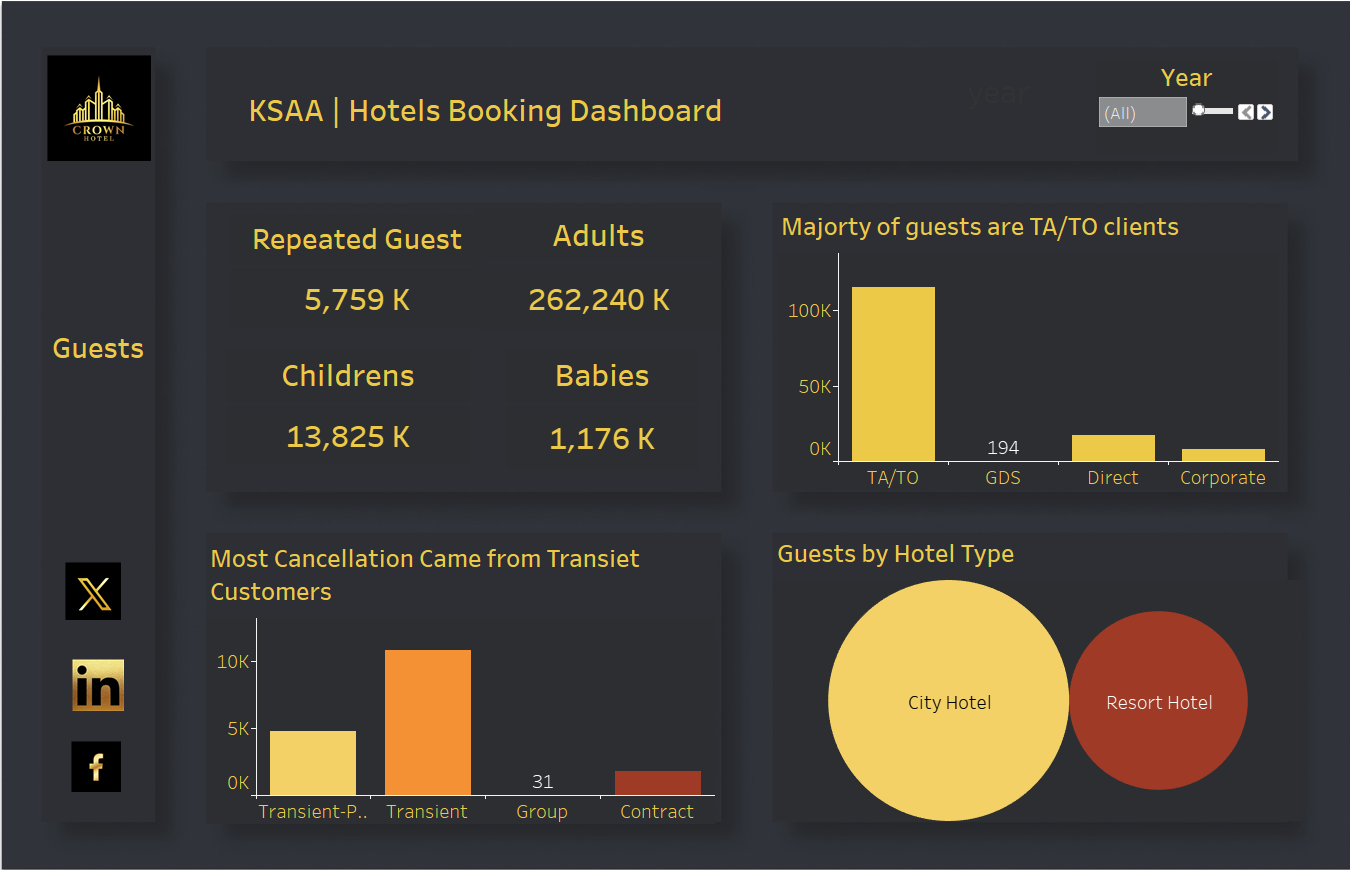

What the dashboard file says about the page in this screenshot:
{"tool":"powerbi","page":{"name":"Guests","canvas":[1280,720],"ordinal":2},"visuals":[{"type":"shape","box":[0,0,87.3,720.8],"z":0},{"type":"textbox","box":[103.8,17.7,396.2,49.2],"z":1000},{"type":"pageNavigator","box":[103.5,73.7,820.6,43.9],"z":2000},{"type":"barChart","title":"Guests by Customer Type","fields":{"Y":["# Measures.Guest in Hotel"],"Category":["DIM_Customer_Type.Customer_Type"]},"box":[875.7,329.3,390,180],"z":3000},{"type":"cardVisual","fields":{"Data":["# Measures.Repeated Guests","# Measures.#Adults","# Measures.#Children","# Measures.#Babies"]},"box":[102.9,132.9,185.7,572.9],"z":4000},{"type":"image","box":[5.7,10,75.7,65.7],"z":5000},{"type":"barChart","title":"Guests by Distribution Channel","fields":{"Category":["DIM_Distribution_Channel.Distribution_Channel"],"Y":["# Measures.Guest in Hotel"]},"box":[875.7,132.9,390,180],"z":6000},{"type":"barChart","title":"Guest by Deposit Type","fields":{"Y":["# Measures.Guest in Hotel"],"Category":["DIM_Deposit_Type.Deposit_Type"]},"box":[875.7,525.7,390,180],"z":7000},{"type":"pivotTable","fields":{"Rows":["DIM_Country.Country"],"Values":["# Measures.#Adults","# Measures.#Children","# Measures.#Babies","# Measures.Guests Check-Out","# Measures.Guests Canceled","# Measures.Guests No-Show"]},"box":[302.5,328.8,558.8,377.5],"z":8000},{"type":"donutChart","title":"Guest by Hotel Type","fields":{"Y":["# Measures.Guest in Hotel"],"Category":["DIM_Hotel_Type.Hotel_Type"]},"box":[302.5,132.5,280,180],"z":9000},{"type":"donutChart","title":"Guests by Reservation Status","fields":{"Y":["# Measures.Guest in Hotel"],"Category":["DIM_Reservation_Status.Reservation_Status"]},"box":[595,132.5,266.2,180],"z":10000},{"type":"image","box":[21.3,97.8,45.4,39.7],"z":11000}]}

Visuals, with their boxes on the page's 1280x720 design canvas (x1, y1, x2, y2). These are canvas units, not pixel positions in the 1350x870 screenshot, which may show the page scaled, cropped or inside an application window:
shape: pyautogui.locateOnScreen(0, 0, 87, 721)
textbox: pyautogui.locateOnScreen(104, 18, 500, 67)
pageNavigator: pyautogui.locateOnScreen(104, 74, 924, 118)
"Guests by Customer Type" barChart: pyautogui.locateOnScreen(876, 329, 1266, 509)
cardVisual - # Measures.Repeated Guests x # Measures.#Adults: pyautogui.locateOnScreen(103, 133, 289, 706)
image: pyautogui.locateOnScreen(6, 10, 81, 76)
"Guests by Distribution Channel" barChart: pyautogui.locateOnScreen(876, 133, 1266, 313)
"Guest by Deposit Type" barChart: pyautogui.locateOnScreen(876, 526, 1266, 706)
pivotTable - DIM_Country.Country x # Measures.#Adults: pyautogui.locateOnScreen(302, 329, 861, 706)
"Guest by Hotel Type" donutChart: pyautogui.locateOnScreen(302, 132, 582, 312)
"Guests by Reservation Status" donutChart: pyautogui.locateOnScreen(595, 132, 861, 312)
image: pyautogui.locateOnScreen(21, 98, 67, 138)
